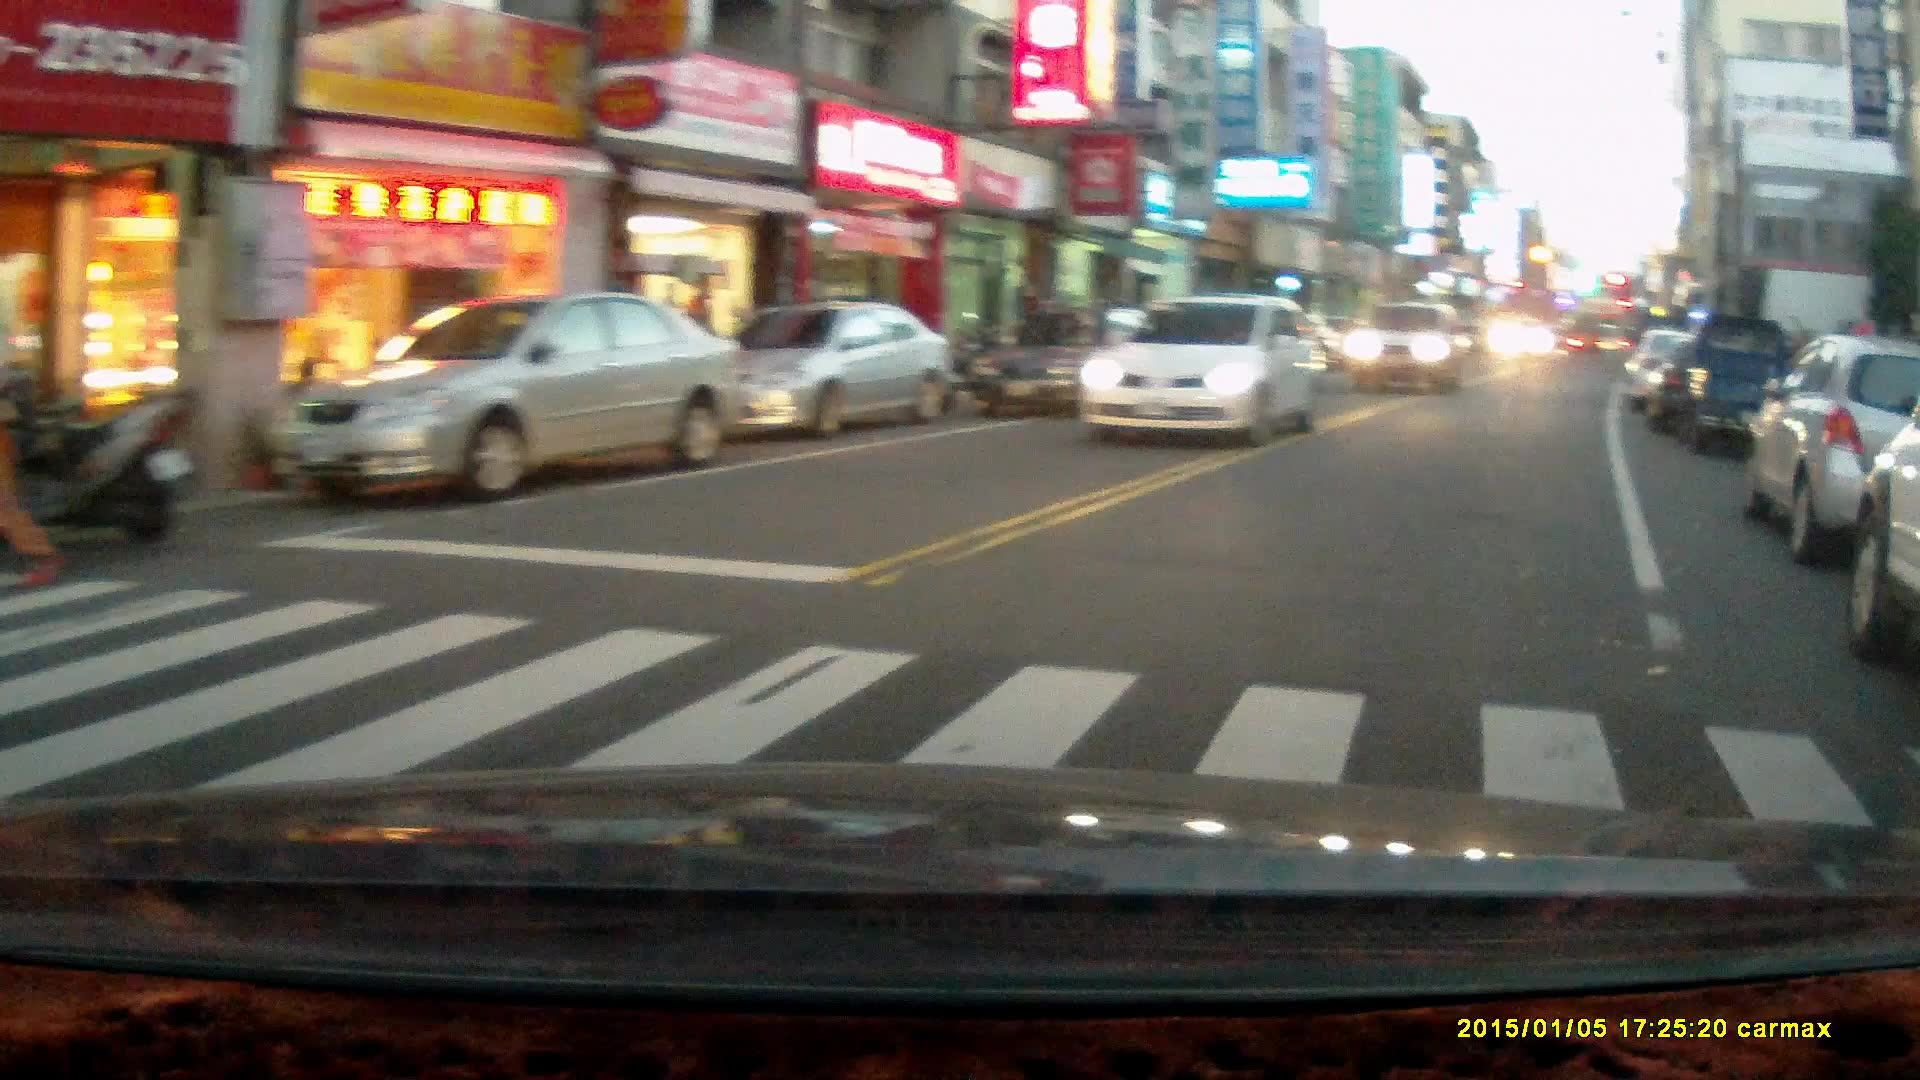vehicle: (270, 287, 756, 508), (1749, 330, 1920, 563), (1076, 291, 1331, 447), (678, 299, 957, 433), (975, 311, 1174, 429), (1658, 313, 1795, 452), (1619, 327, 1753, 425), (1335, 297, 1473, 389), (1485, 313, 1557, 363)
